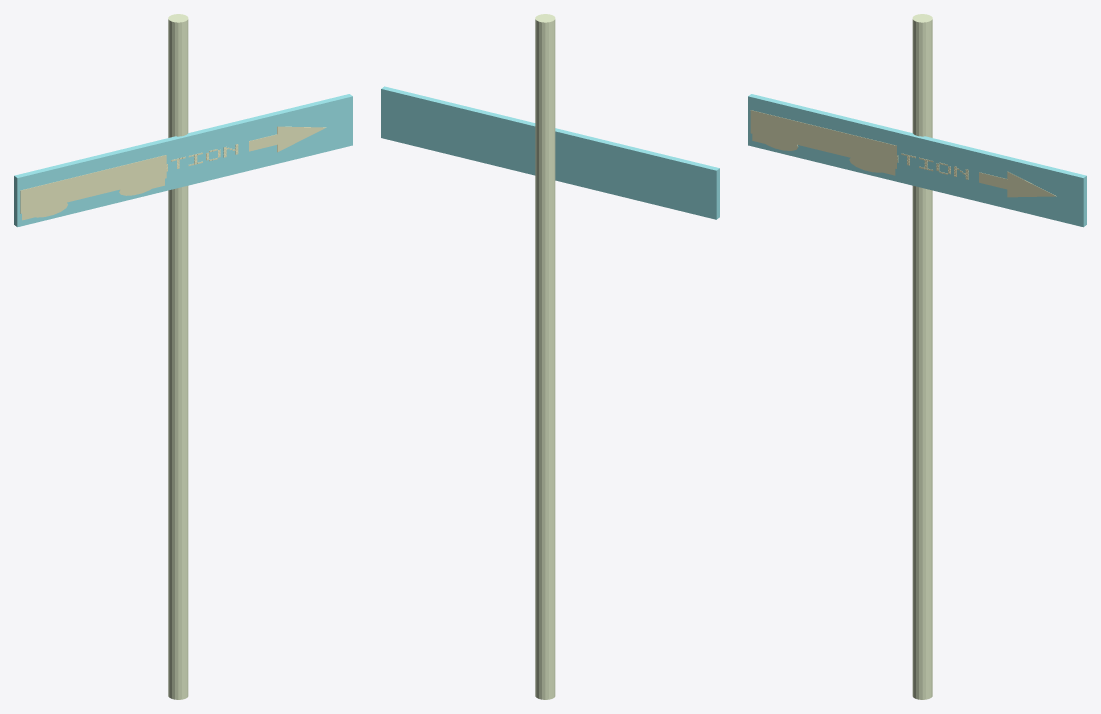
The model's file is sign_bus_station_arrow_right.glb.
3 renders of one model, left to right at view 1: azimuth 30°, elevation 25°; view 2: azimuth 150°, elevation 25°; view 3: azimuth 330°, elevation 25°, orthographic.
Parts seen in each view (by area): view 1: pole, plate_base_00, layer_1_00, layer_1_107; view 2: plate_base_00, pole; view 3: pole, plate_base_00, layer_1_00, layer_1_107.
Part boxes in pixels (left/top/right/bottom): pole: left=168, top=14, right=188, bottom=699; plate_base_00: left=14, top=94, right=352, bottom=227; layer_1_00: left=20, top=155, right=166, bottom=213; layer_1_107: left=277, top=126, right=326, bottom=152; plate_base_00: left=381, top=86, right=719, bottom=219; pole: left=535, top=14, right=555, bottom=699; pole: left=912, top=14, right=932, bottom=699; plate_base_00: left=748, top=94, right=1086, bottom=227; layer_1_00: left=750, top=110, right=896, bottom=168; layer_1_107: left=1007, top=171, right=1056, bottom=197.
Bounding box in the file's own units: 1.14 × 2.2 × 0.071.
